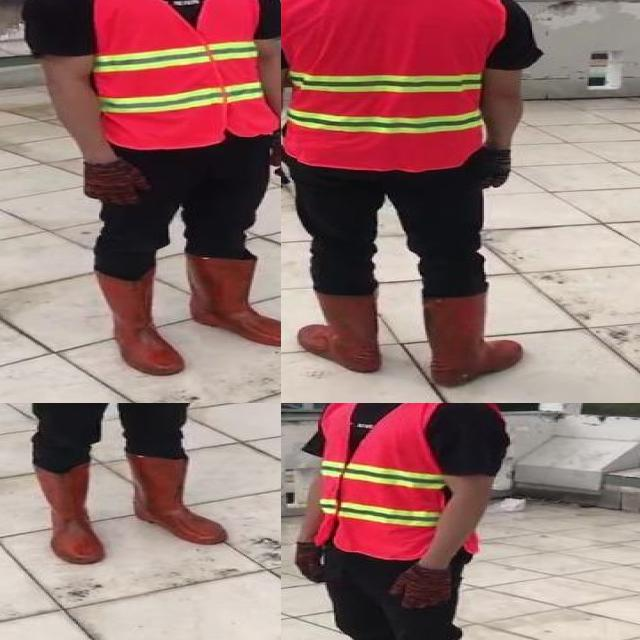boots: (181, 246, 281, 348), (418, 291, 522, 387), (94, 270, 184, 375), (131, 453, 233, 543), (298, 288, 387, 374), (34, 466, 106, 561)
hand_glove: (76, 161, 149, 204), (389, 565, 453, 609), (475, 148, 514, 190), (291, 541, 325, 584), (281, 143, 292, 191), (271, 131, 281, 176)
person: (281, 0, 564, 392), (41, 0, 281, 382), (281, 403, 514, 640), (0, 403, 245, 563)
vest: (281, 0, 493, 168), (92, 0, 277, 150), (311, 403, 487, 560)
